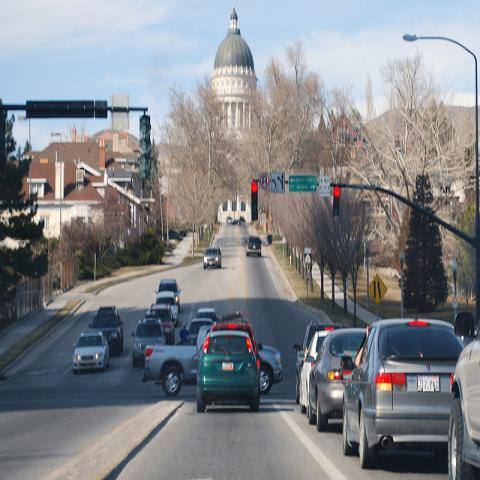car: (145, 214, 281, 398), (341, 318, 466, 469), (306, 327, 368, 435), (192, 330, 262, 413), (446, 312, 480, 479), (293, 323, 350, 404), (297, 330, 334, 412), (87, 306, 124, 358), (131, 316, 166, 368), (72, 331, 111, 374), (145, 304, 176, 344), (155, 289, 178, 328), (204, 247, 222, 270), (246, 236, 262, 257)
truck: (139, 327, 284, 399)
